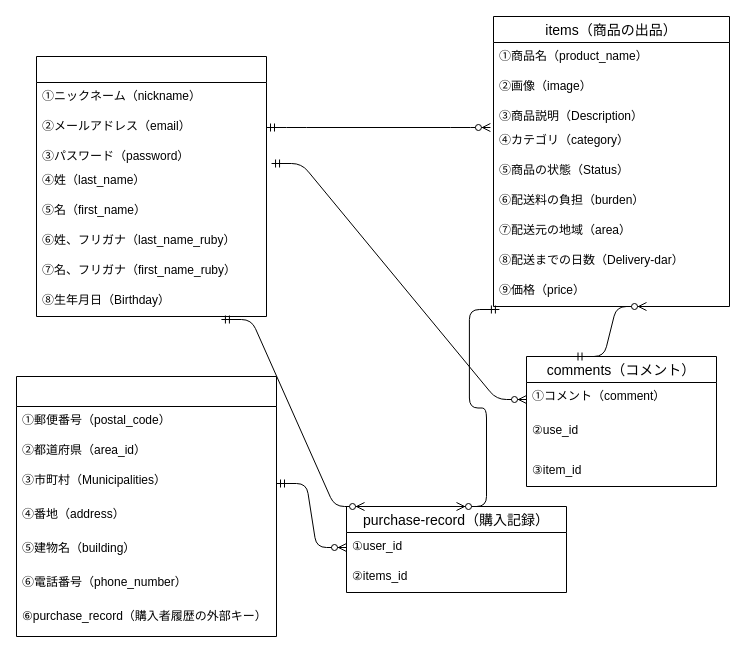
This 746x653 diagram has some shape labels left out. Each missing label, with the box of its shape:
shipping address（配送先住所）: (16, 376, 276, 636)
users（ユーザー登録）: (36, 56, 266, 316)
